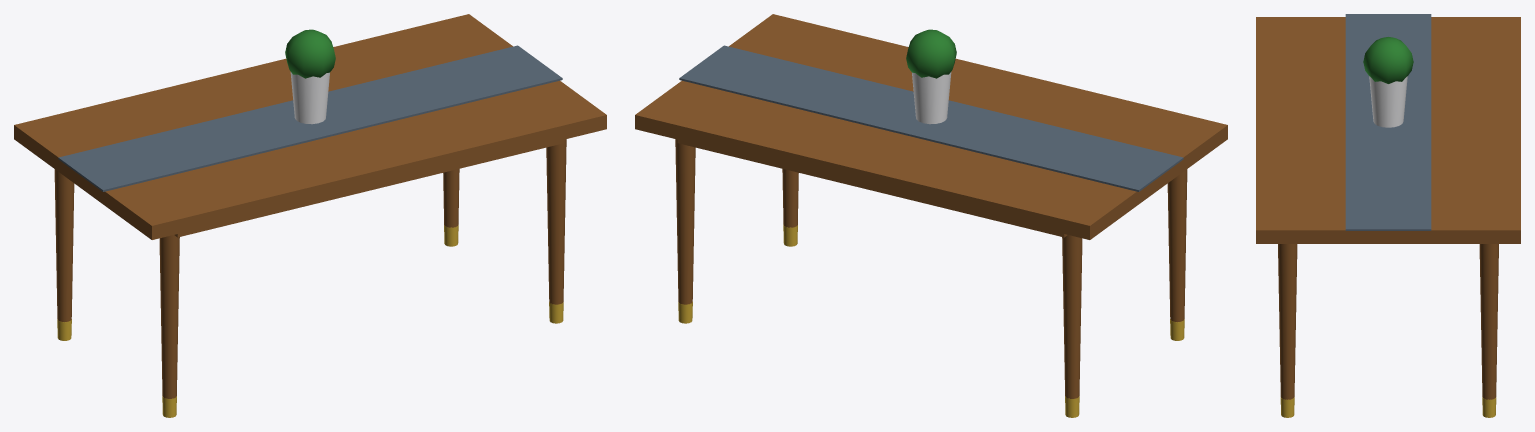
Rendered from dining-table.glb.
3 views of the same model, side by side, from view 1: azimuth 30°, elevation 25°; view 2: azimuth 150°, elevation 25°; view 3: azimuth 270°, elevation 25° (orthographic). The views are drawn at different scales.
Visible parts, largest first — view 1: table_top, accessory_runner, DiningTable, accessory_plant, accessory_vase; view 2: table_top, accessory_runner, DiningTable, accessory_plant, accessory_vase; view 3: table_top, accessory_runner, DiningTable, accessory_plant, accessory_vase.
Boxes of the visible parts, x1,y1,x2,y2 form: table_top: (14, 14, 606, 239); accessory_runner: (58, 45, 562, 191); DiningTable: (54, 139, 566, 417); accessory_plant: (285, 29, 335, 78); accessory_vase: (290, 72, 329, 124); table_top: (635, 14, 1227, 239); accessory_runner: (679, 45, 1183, 191); DiningTable: (675, 139, 1187, 417); accessory_plant: (906, 29, 956, 78); accessory_vase: (912, 72, 951, 124); table_top: (1256, 17, 1520, 243); accessory_runner: (1345, 14, 1431, 230); DiningTable: (1278, 244, 1498, 417); accessory_plant: (1363, 37, 1413, 83); accessory_vase: (1369, 76, 1407, 127).
Bounding box in the file's own units: 2.02 × 1.25 × 1.05.
